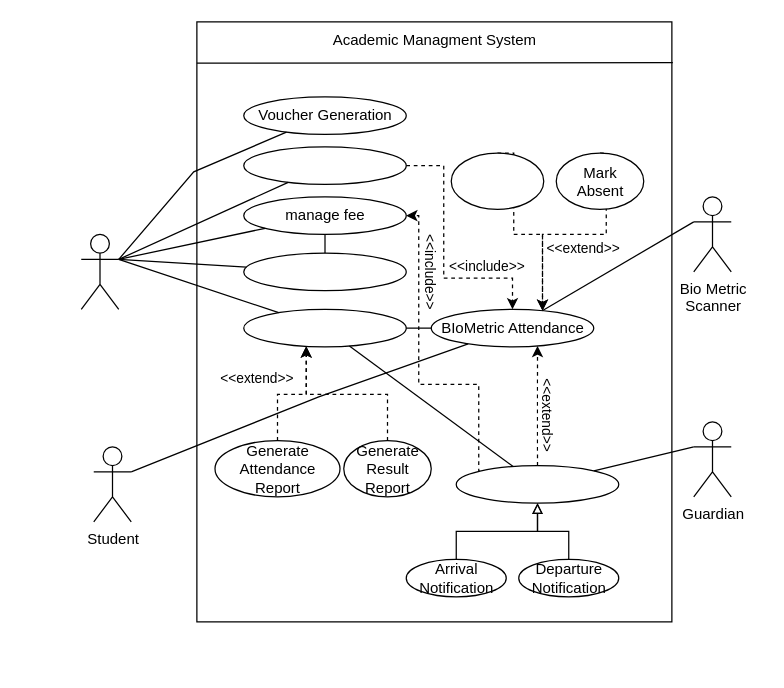
Image size: 784x688. Some labels were removed from this diagram. Each missing label, with the centre of its shape:
Academic Administrator: point 99,271
Generate Reports: point 324,327
manage Attendance: point 324,165
manage Student: point 324,271
Mark Attendance: point 497,180
Notifications: point 537,483
